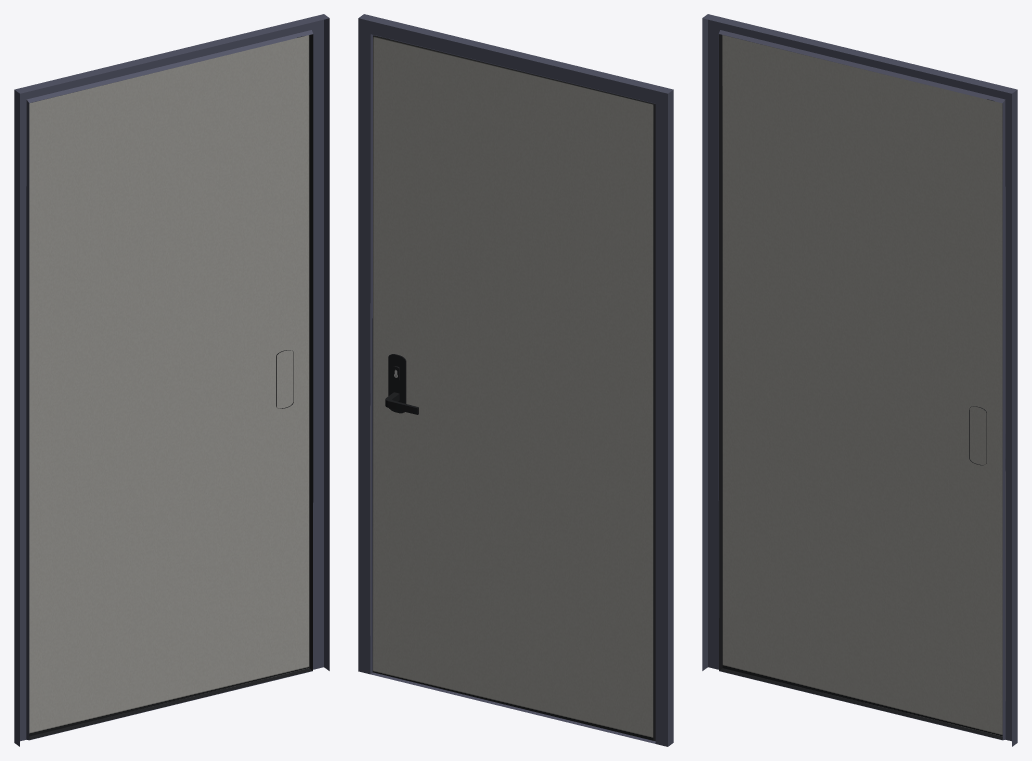
The model's file is Door (3).fbx.
3 views of the same model, side by side, from view 1: azimuth 30°, elevation 25°; view 2: azimuth 150°, elevation 25°; view 3: azimuth 330°, elevation 25° (orthographic).
Parts seen in each view (by area): view 1: DoorBase, DoorRama; view 2: DoorBase, DoorRama; view 3: DoorBase, DoorRama.
Boxes of the visible parts, left/top/right/bottom form: DoorBase: left=29, top=35, right=309, bottom=736; DoorRama: left=14, top=14, right=329, bottom=746; DoorBase: left=372, top=36, right=653, bottom=740; DoorRama: left=358, top=14, right=673, bottom=746; DoorBase: left=722, top=35, right=1002, bottom=736; DoorRama: left=702, top=14, right=1017, bottom=746.
Size of the model in its own units: 1.09 by 2.2 by 0.1041.
